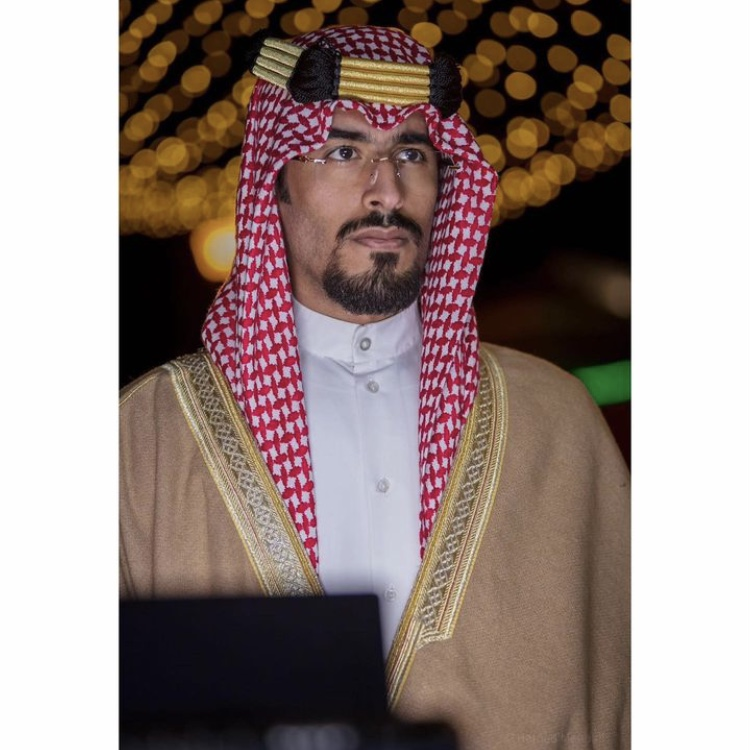Saudi_Founding_Day: (119, 20, 629, 749)
